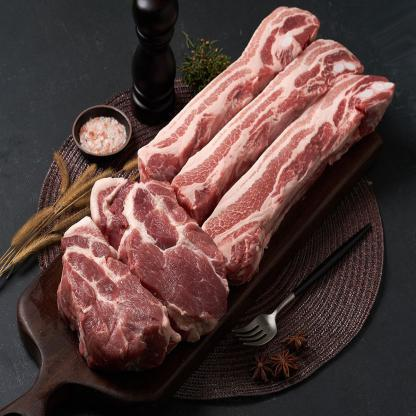pork: (178, 0, 396, 266), (75, 164, 230, 374)
